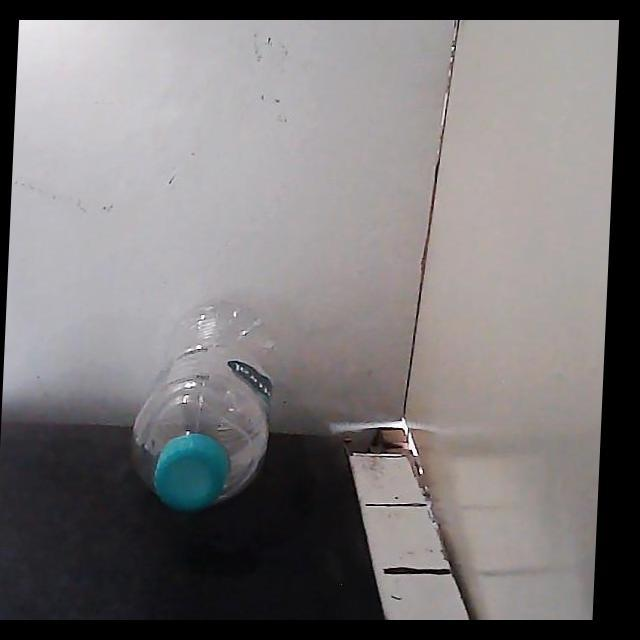plastico: (132, 303, 272, 511)
